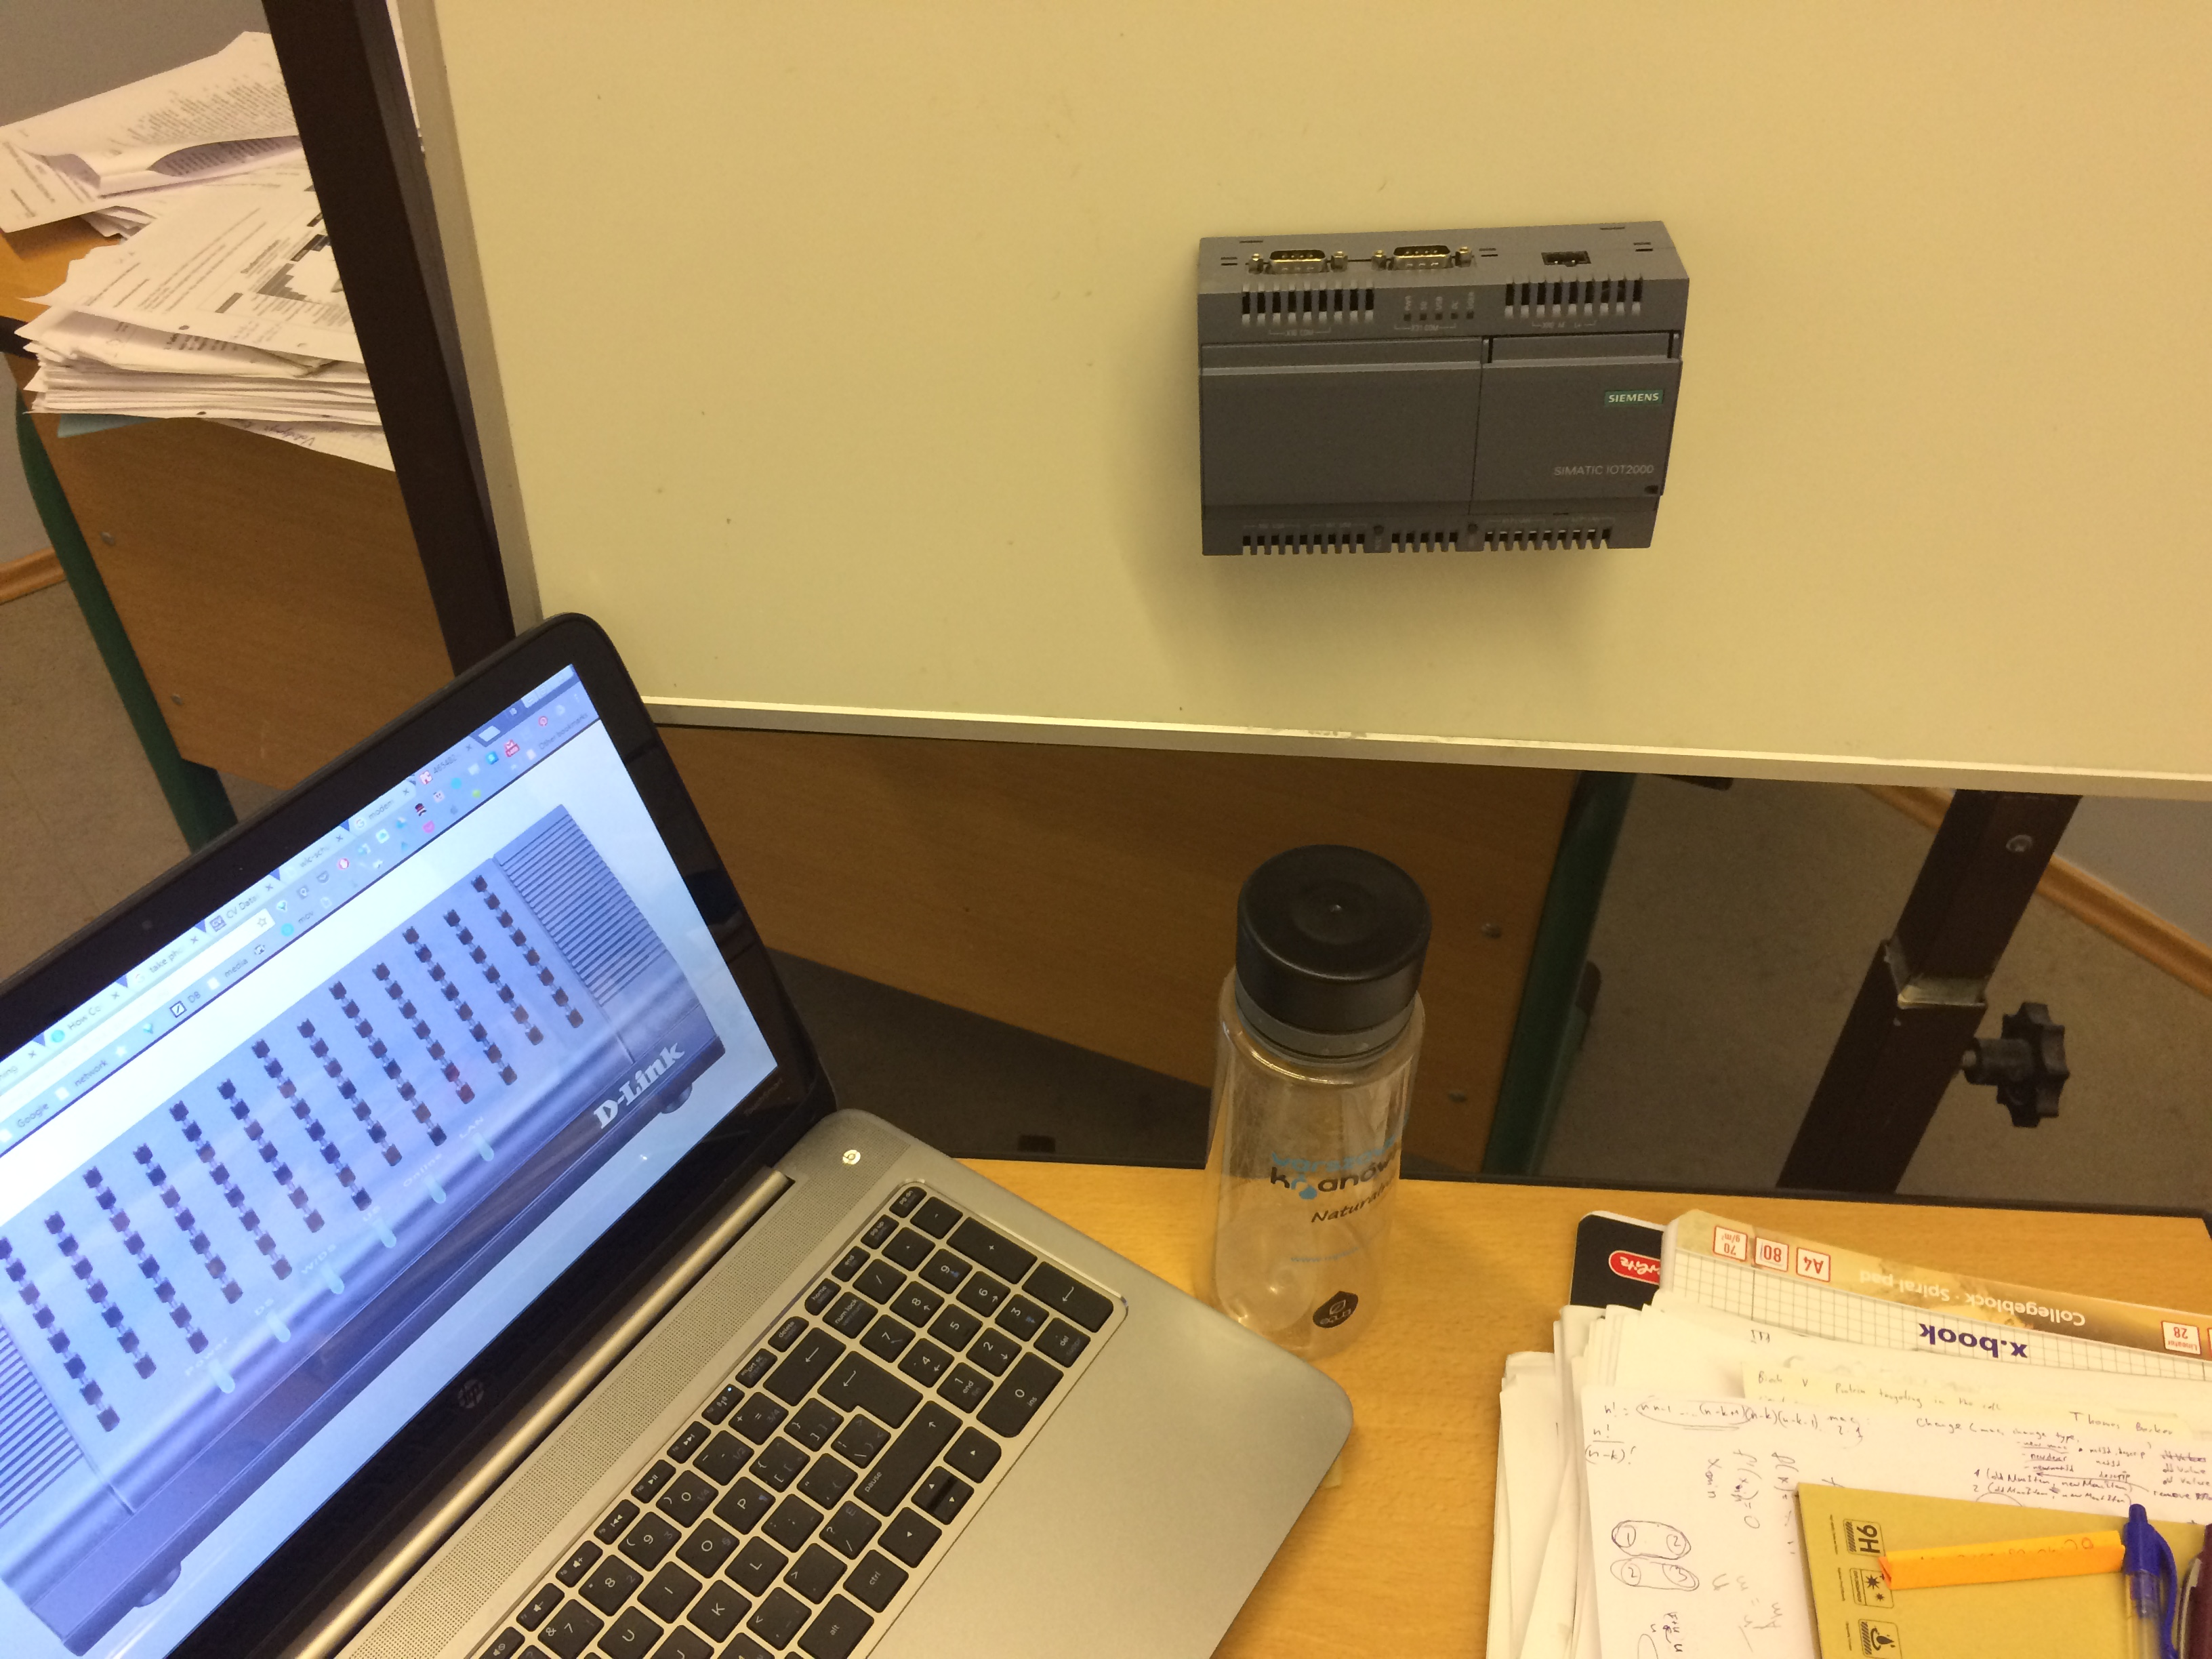iot2000: (1195, 218, 1693, 561)
